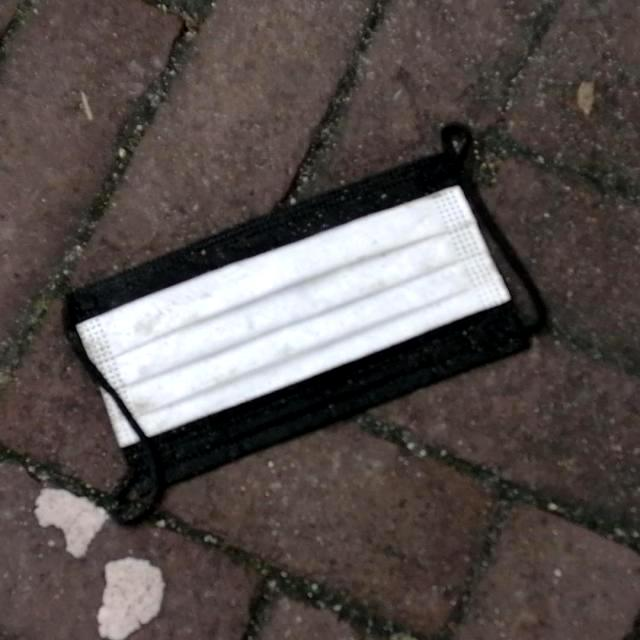Mask: (57, 118, 550, 532)
